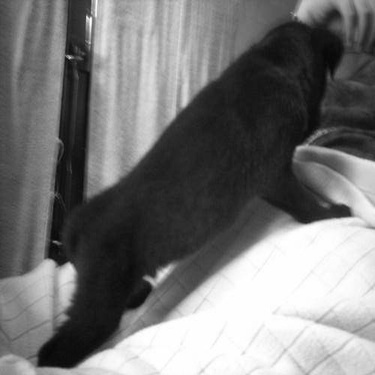dog: (36, 3, 370, 373)
